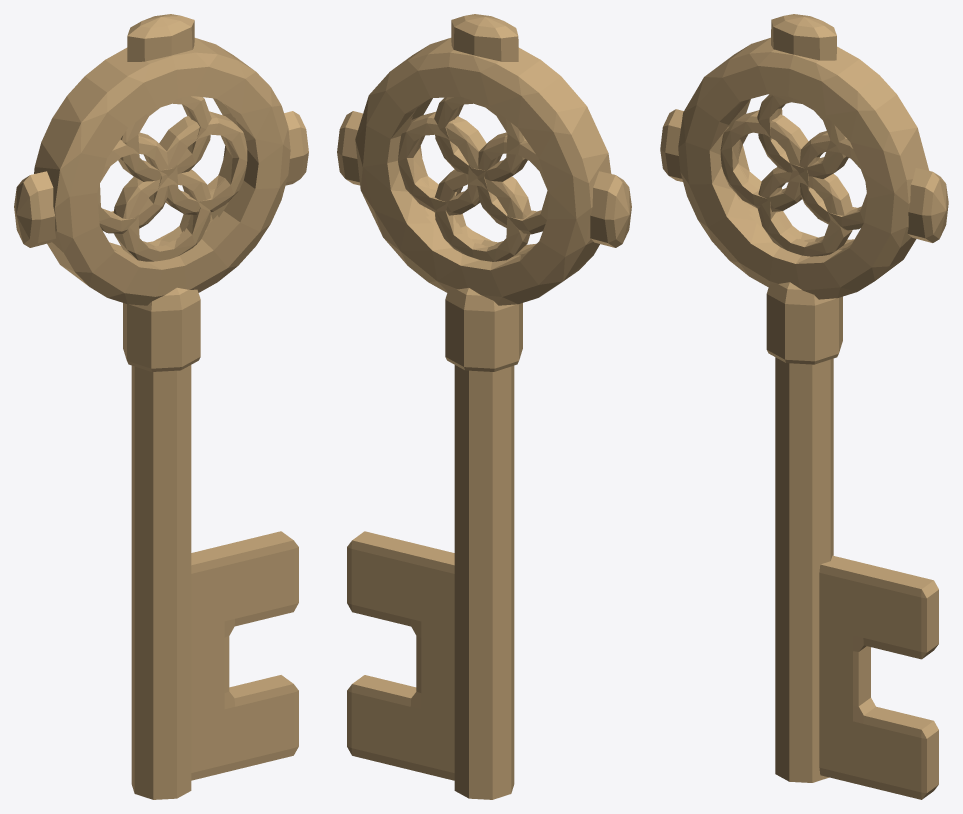
The model's file is key_10.fbx.
The picture shows the model from 3 angles, left to right: view 1: azimuth 30°, elevation 25°; view 2: azimuth 150°, elevation 25°; view 3: azimuth 330°, elevation 25°; orthographic projection. The views are drawn at different scales.
Visible parts, largest first — view 1: key10head.002; view 2: key10head.002; view 3: key10head.002.
Boxes of the visible parts, x1=… form: key10head.002: x1=14, y1=14, x2=308, y2=799; key10head.002: x1=337, y1=14, x2=631, y2=799; key10head.002: x1=660, y1=14, x2=948, y2=799.
Size of the model in its own units: 30.99 by 78.59 by 7.46.
